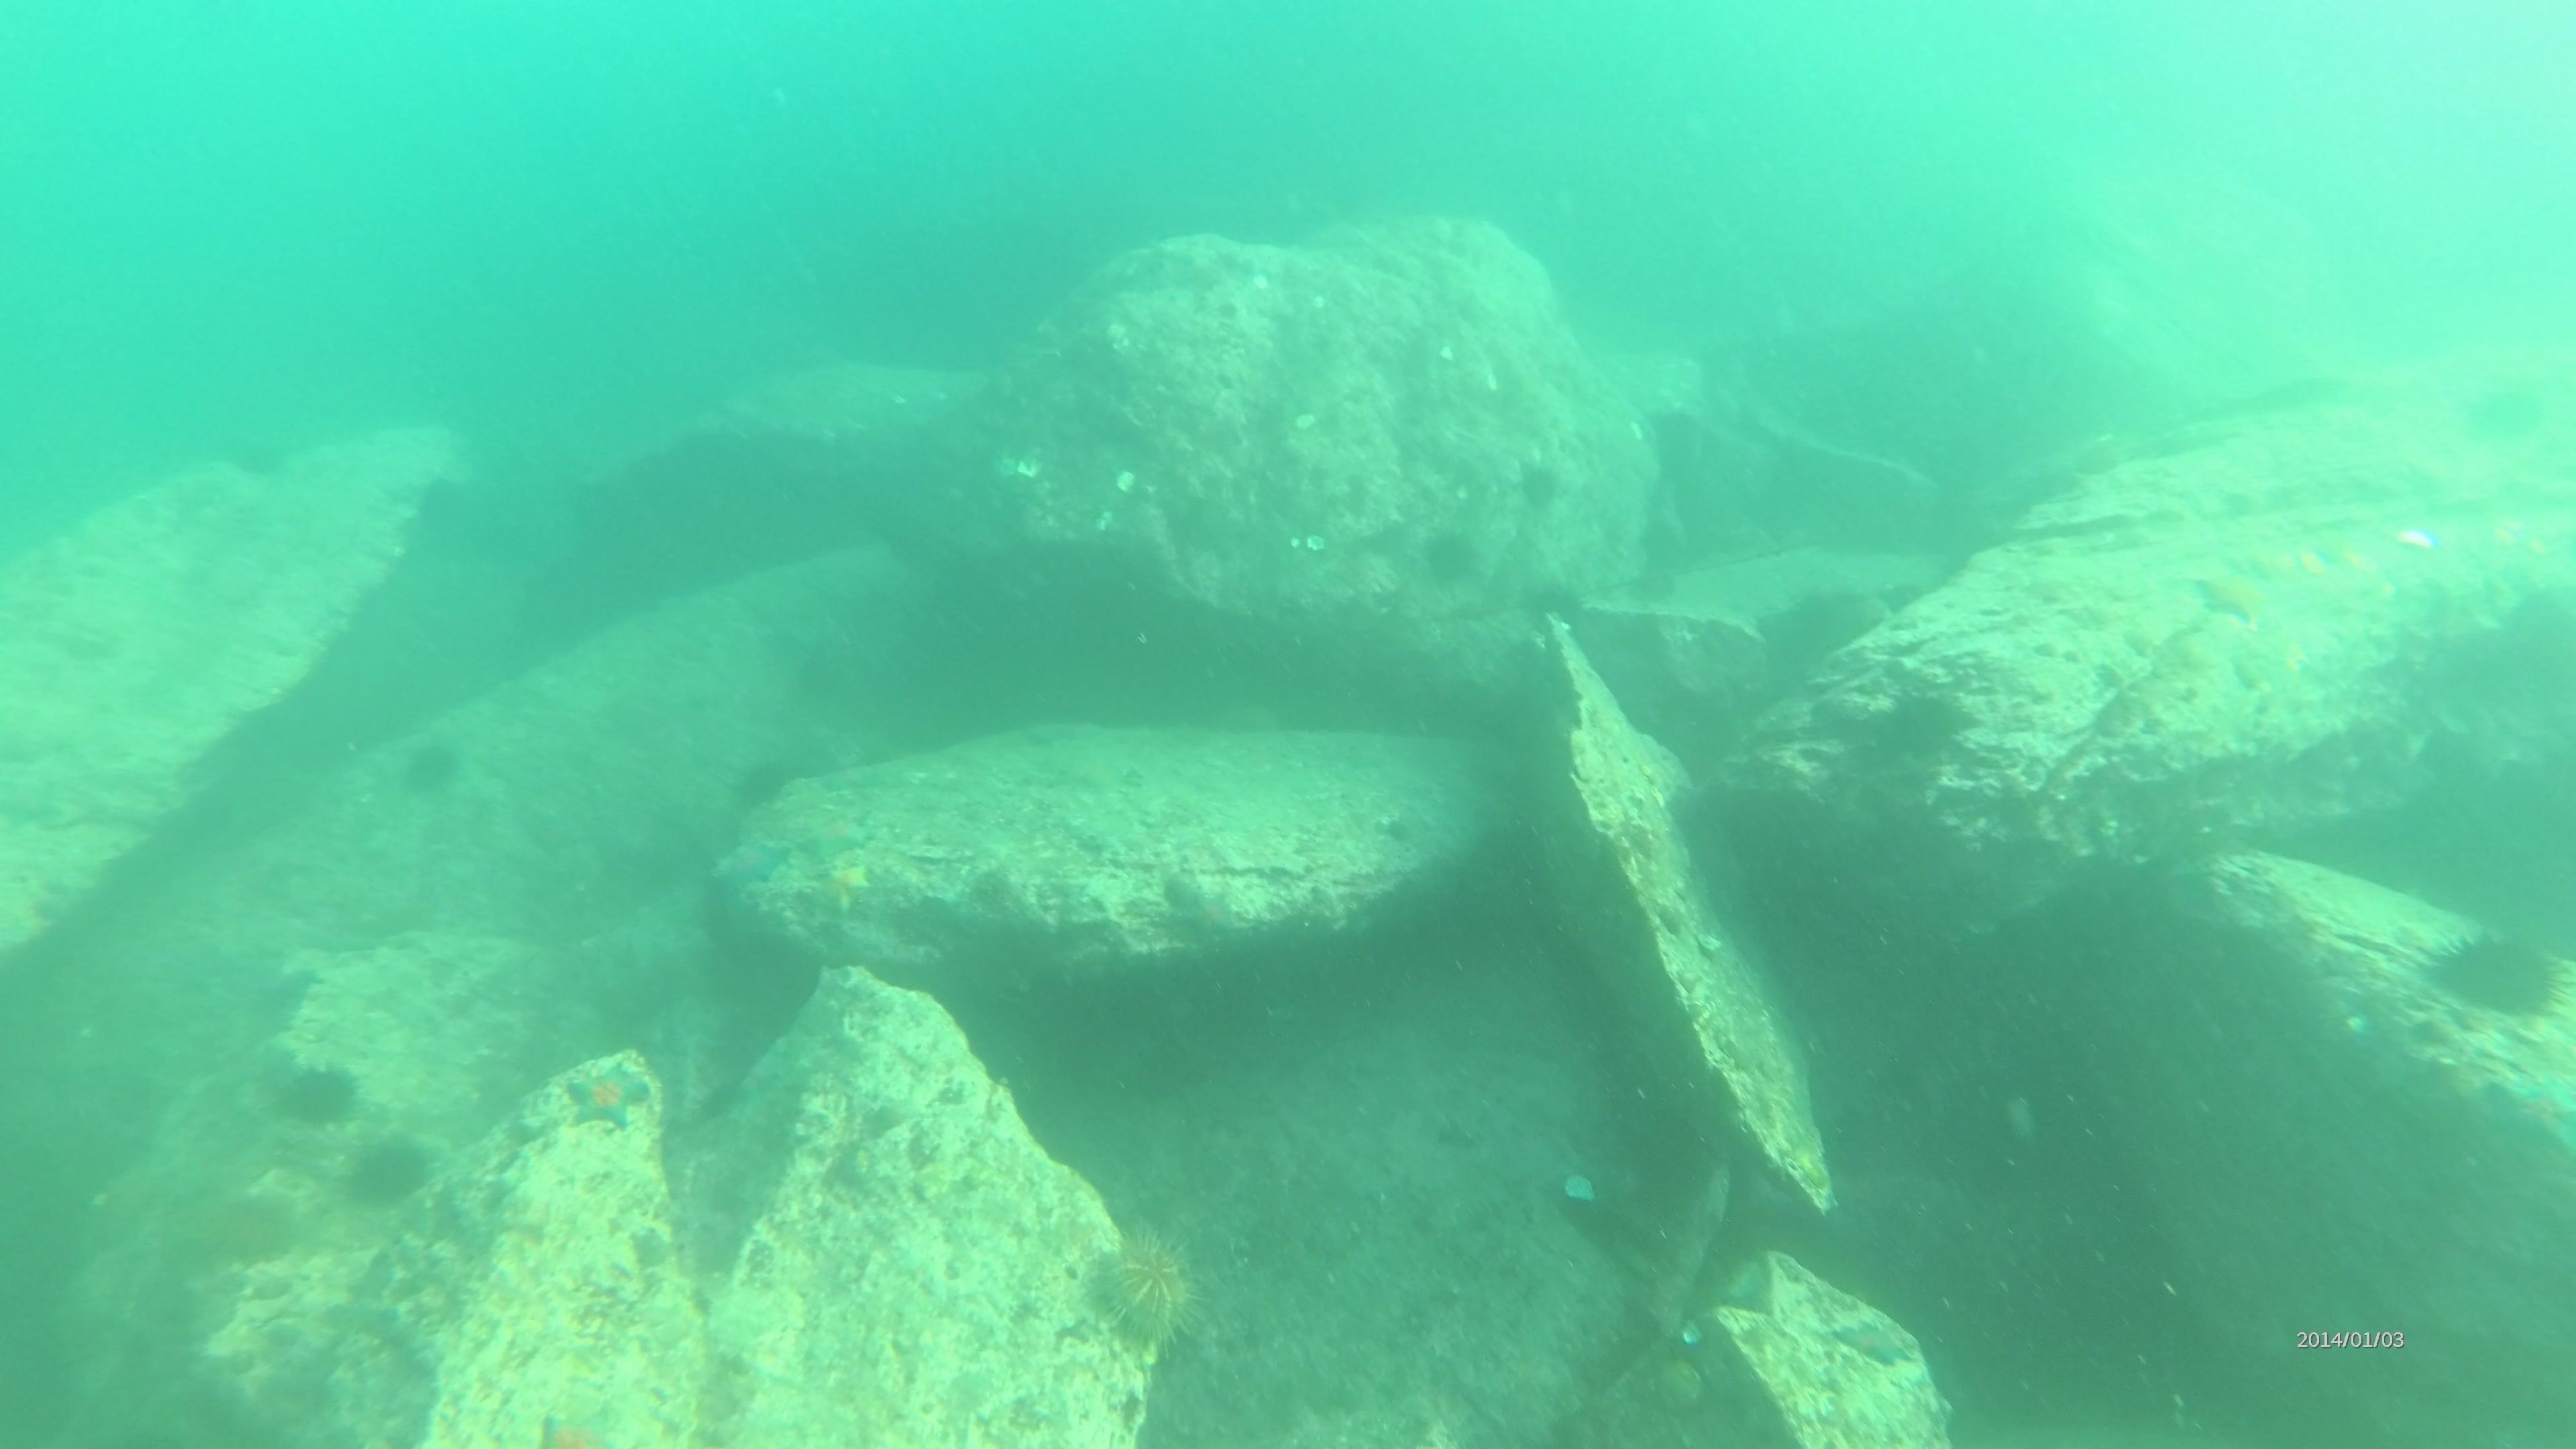echinus: (1079, 1217, 1214, 1353), (2424, 922, 2569, 1028), (1870, 676, 1978, 775), (196, 1185, 303, 1274), (338, 1129, 437, 1215), (269, 1053, 364, 1136), (391, 729, 471, 805), (1414, 520, 1488, 596), (1509, 449, 1568, 518)
starfish: (550, 1046, 660, 1138), (803, 842, 885, 927), (2187, 561, 2281, 633), (708, 826, 800, 897), (1833, 1315, 1913, 1364)
